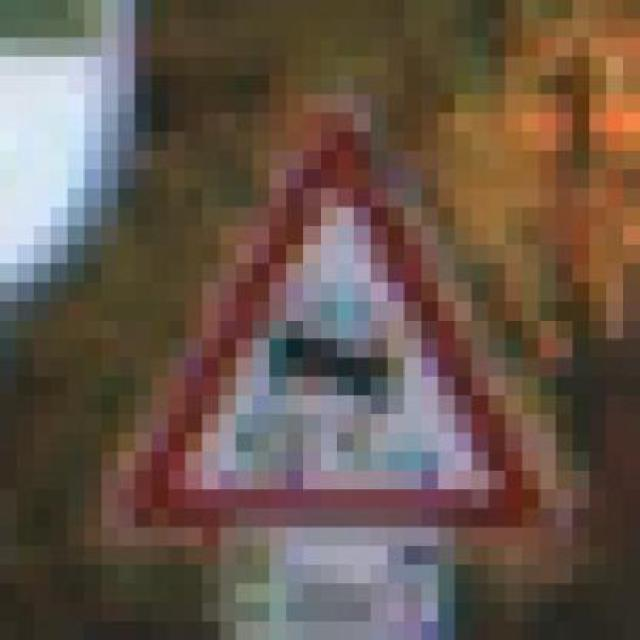Slippery Road Ahead: (118, 112, 556, 546)
